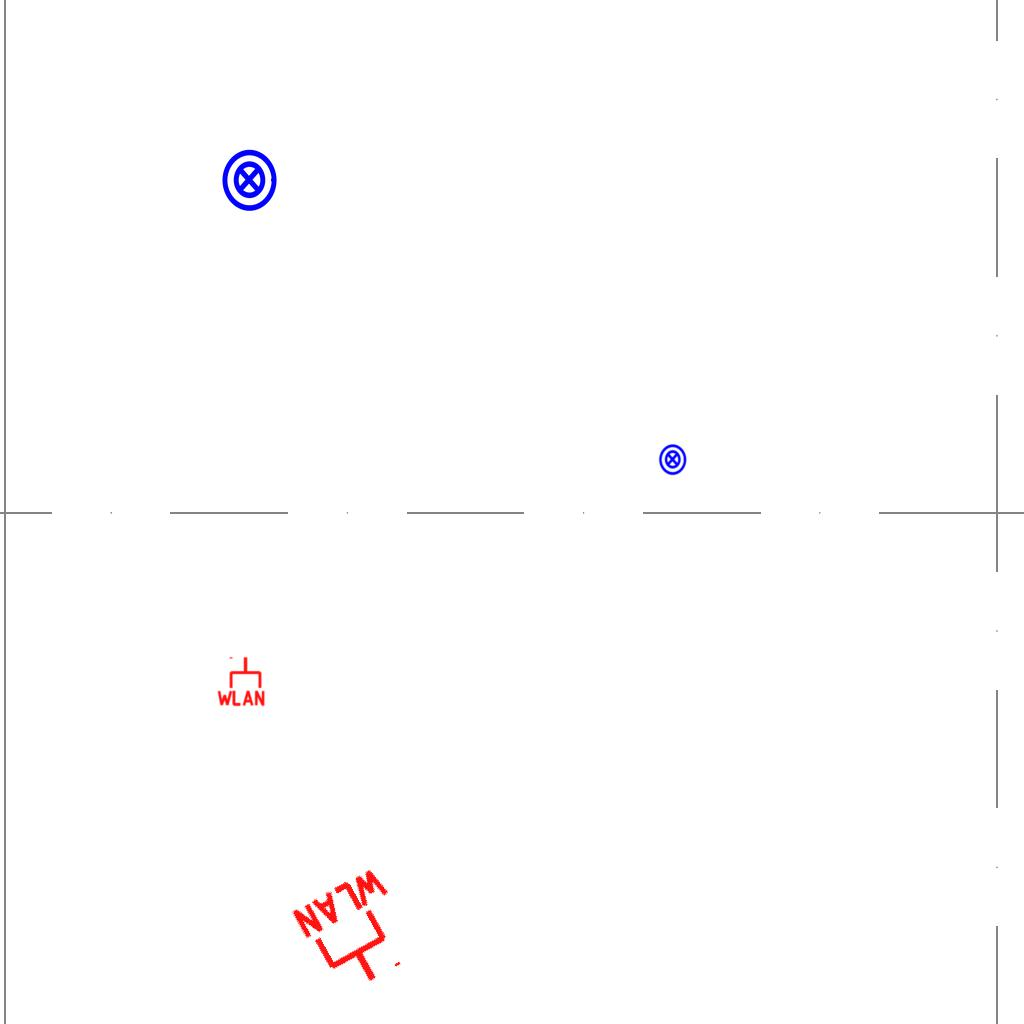Taster_beleuchtet: (216, 147, 282, 213), (656, 443, 689, 476)
WLAN: (286, 861, 429, 1005), (215, 655, 267, 707)
